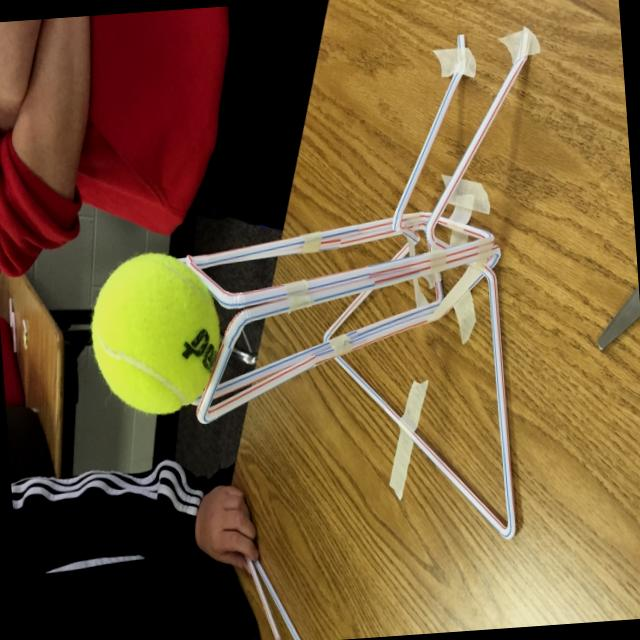Tennis Ball: (84, 250, 230, 425)
